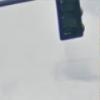traffic lights: (54, 0, 86, 42)
